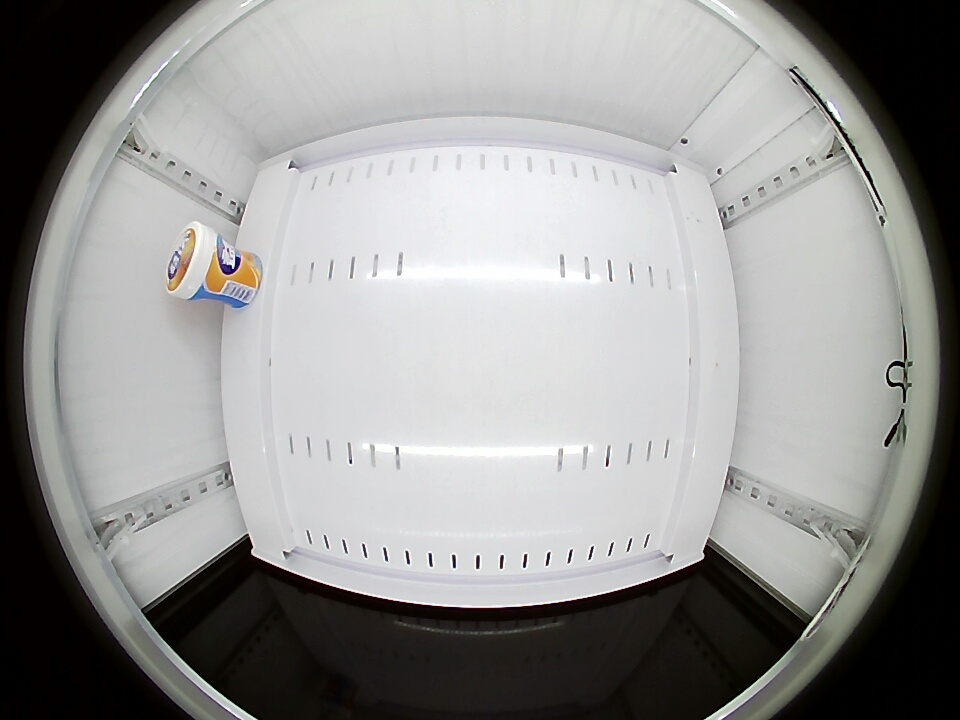yida: (165, 221, 226, 302)
